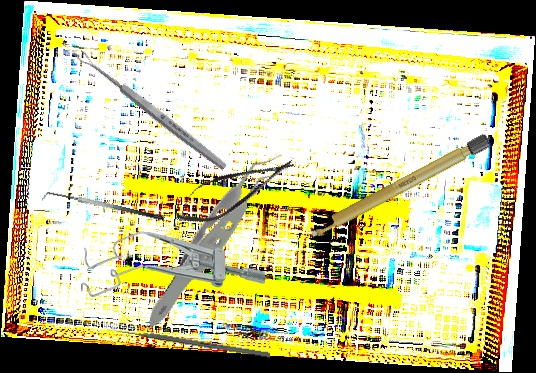Micro Scissor: (168, 143, 302, 236)
Pusher: (106, 326, 271, 358)
Scalpel Handle: (304, 132, 492, 242)
Spatula Surgical: (41, 185, 166, 231)
Speculum: (81, 231, 265, 298)
Surgical Spoon: (75, 48, 229, 173)
Tissue Forceps: (106, 149, 329, 331)
